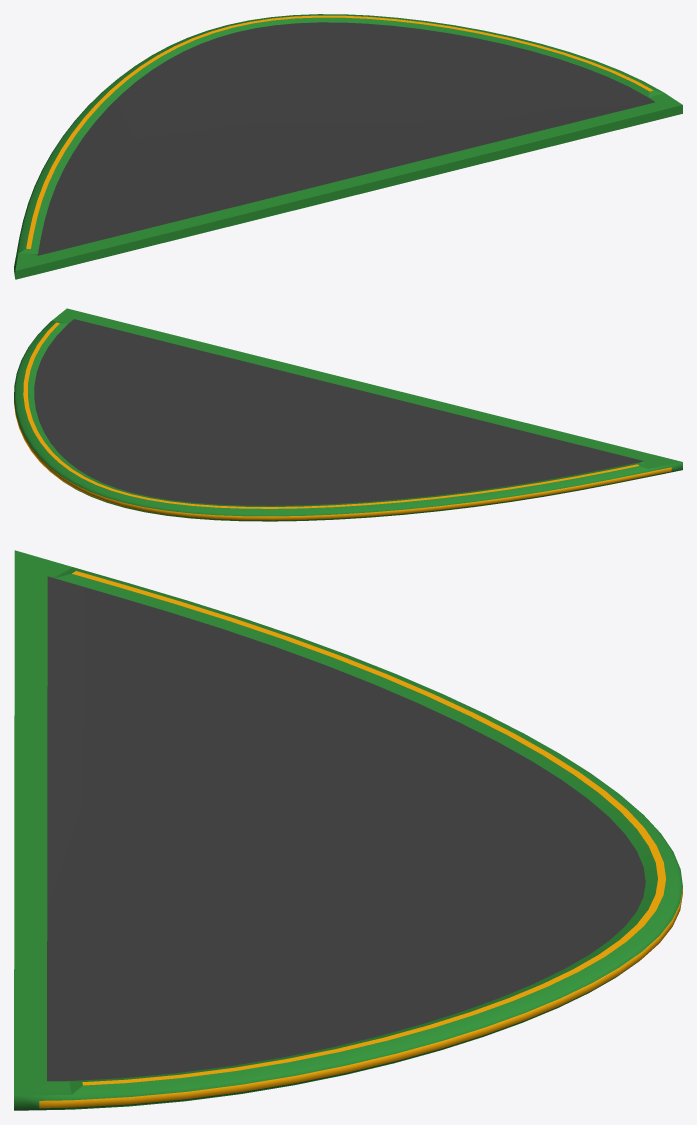
Rendered from Upper Level wings.FBX.
The picture shows the model from 3 angles, top to bottom: view 1: azimuth 30°, elevation 25°; view 2: azimuth 150°, elevation 25°; view 3: azimuth 270°, elevation 25°; orthographic projection. The views are drawn at different scales.
Parts seen in each view (by area): view 1: Cylinder034; view 2: Cylinder034; view 3: Cylinder034.
Boxes of the visible parts, box(x1,y1,x2,y2) form: Cylinder034: box(14, 14, 682, 279); Cylinder034: box(14, 308, 682, 521); Cylinder034: box(14, 550, 682, 1110).
Bounding box in the file's own units: 35.49 × 0.8003 × 18.15.
